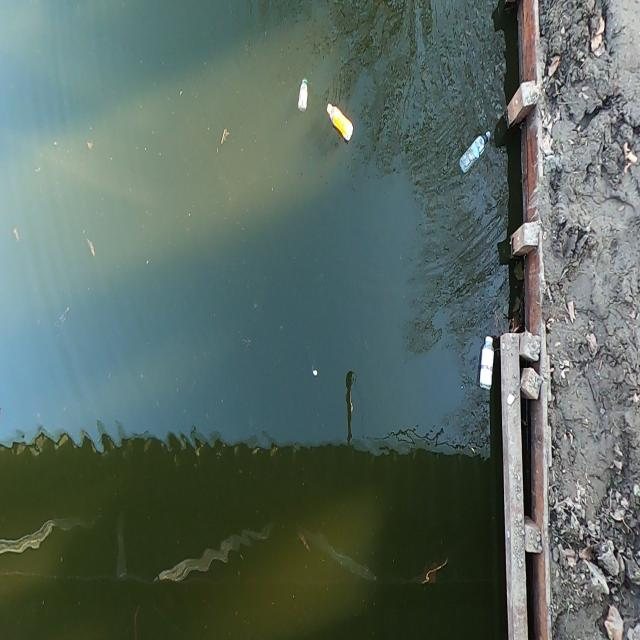Bouteille plastique: (457, 127, 492, 180), (323, 98, 355, 145), (474, 333, 496, 395), (297, 70, 312, 119)
